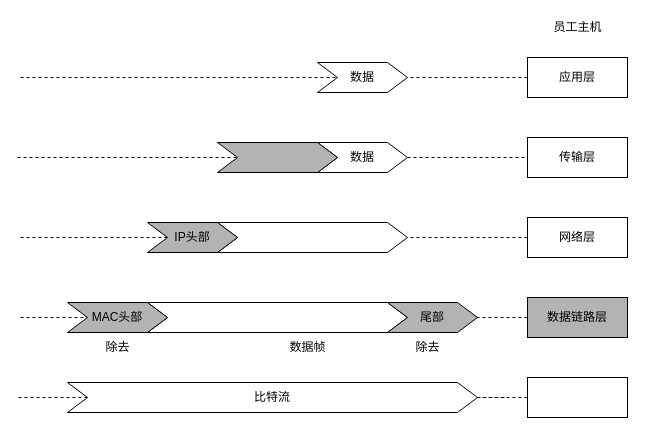
This 645x435 diagram has some shape labels left out. Each missing label, with the centre of its shape:
"TCP头部" goes at pixel 277 157.
"数据包（Packet）" goes at pixel 277 317.
"数据段（Segment）" goes at pixel 312 237.
"物理层" goes at pixel 577 397.
